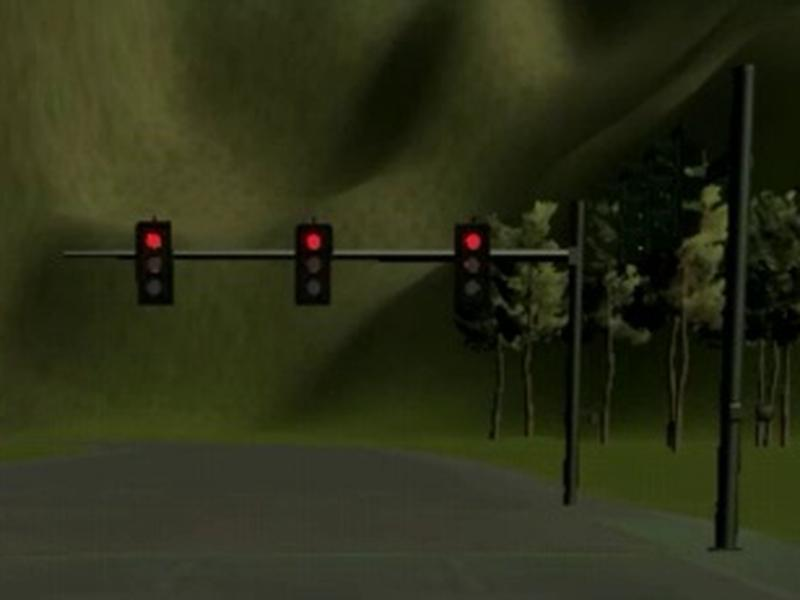Red: (134, 220, 175, 305), (294, 224, 331, 305), (456, 224, 488, 306)
